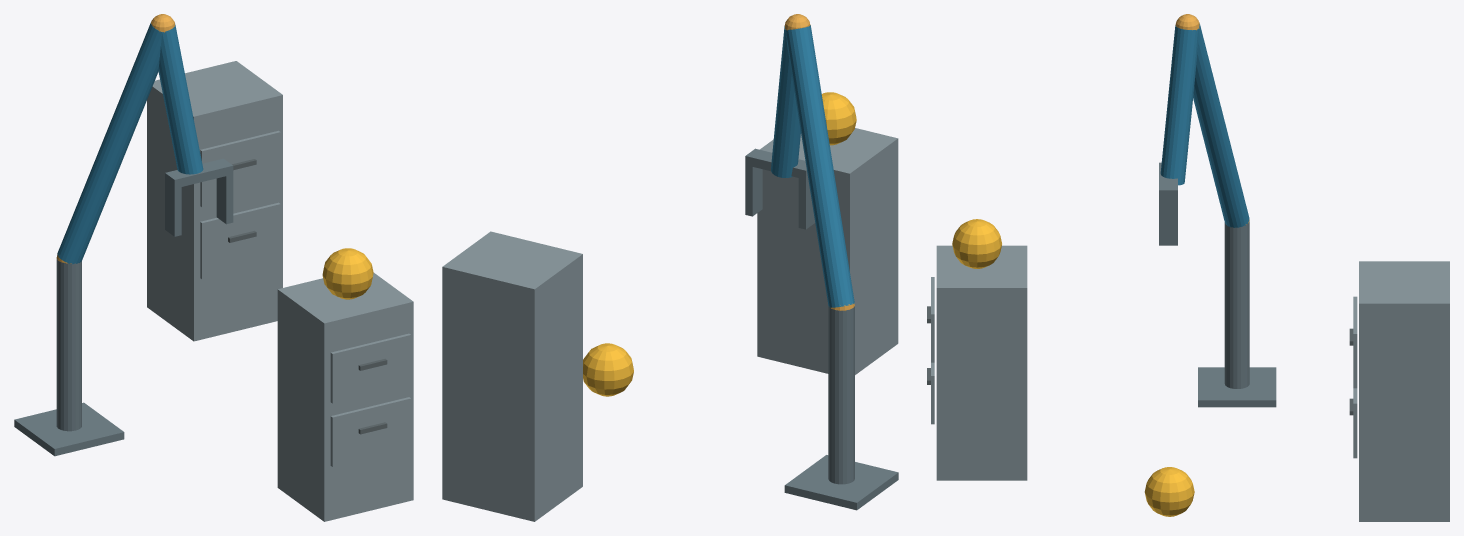
3 renders of one model, left to right at view 1: azimuth 30°, elevation 25°; view 2: azimuth 150°, elevation 25°; view 3: azimuth 270°, elevation 25°, orthographic. The views are drawn at different scales.
Visible parts, largest first — view 1: cabinet_1 body, cabinet_2 body, moving link 1, cabinet_2 drawer front, fixed post, cabinet_1 drawer front.001, cabinet_1 drawer front, cabinet_2 drawer front.001, moving link 2, pedestal, released ball_1, gripper bridge (+2 smaller); view 2: cabinet_2 body, cabinet_1 body, moving link 1, fixed post, pedestal, moving link 2, ball ball_2, released ball_1, gripper finger 1, gripper bridge, gripper finger -1; view 3: cabinet_2 body, cabinet_1 body, moving link 1, fixed post, moving link 2, pedestal, ball ball_2, released ball_1, gripper finger 1.
Boxes of the visible parts, box(x1,y1,x2,y2) form: cabinet_1 body: box(277, 273, 413, 521); cabinet_2 body: box(147, 61, 282, 341); moving link 1: box(57, 22, 161, 264); cabinet_2 drawer front: box(200, 202, 280, 279); fixed post: box(56, 259, 81, 431); cabinet_1 drawer front.001: box(330, 333, 411, 403); cabinet_1 drawer front: box(330, 397, 411, 466); cabinet_2 drawer front.001: box(200, 130, 280, 207); moving link 2: box(158, 25, 203, 174); pedestal: box(14, 402, 124, 456); released ball_1: box(322, 248, 373, 299); gripper bridge: box(165, 158, 233, 188); cabinet_2 body: box(442, 231, 582, 521); cabinet_1 body: box(757, 128, 898, 374); moving link 1: box(786, 25, 854, 307); fixed post: box(828, 304, 854, 484); pedestal: box(784, 455, 898, 510); moving link 2: box(771, 26, 800, 177); ball ball_2: box(583, 343, 633, 396); released ball_1: box(821, 92, 856, 145); gripper finger 1: box(745, 165, 762, 216); gripper bridge: box(745, 148, 807, 179); gripper finger -1: box(798, 178, 815, 229); cabinet_2 body: box(1359, 261, 1449, 521); cabinet_1 body: box(936, 245, 1027, 480); moving link 1: box(1193, 24, 1249, 227); fixed post: box(1224, 221, 1249, 388); moving link 2: box(1160, 25, 1198, 185); pedestal: box(1198, 367, 1276, 407); ball ball_2: box(1144, 467, 1194, 516); released ball_1: box(952, 219, 1001, 268); gripper finger 1: box(1159, 199, 1177, 245).
Size of the model in its own units: 1.14 by 1.44 by 1.67.
